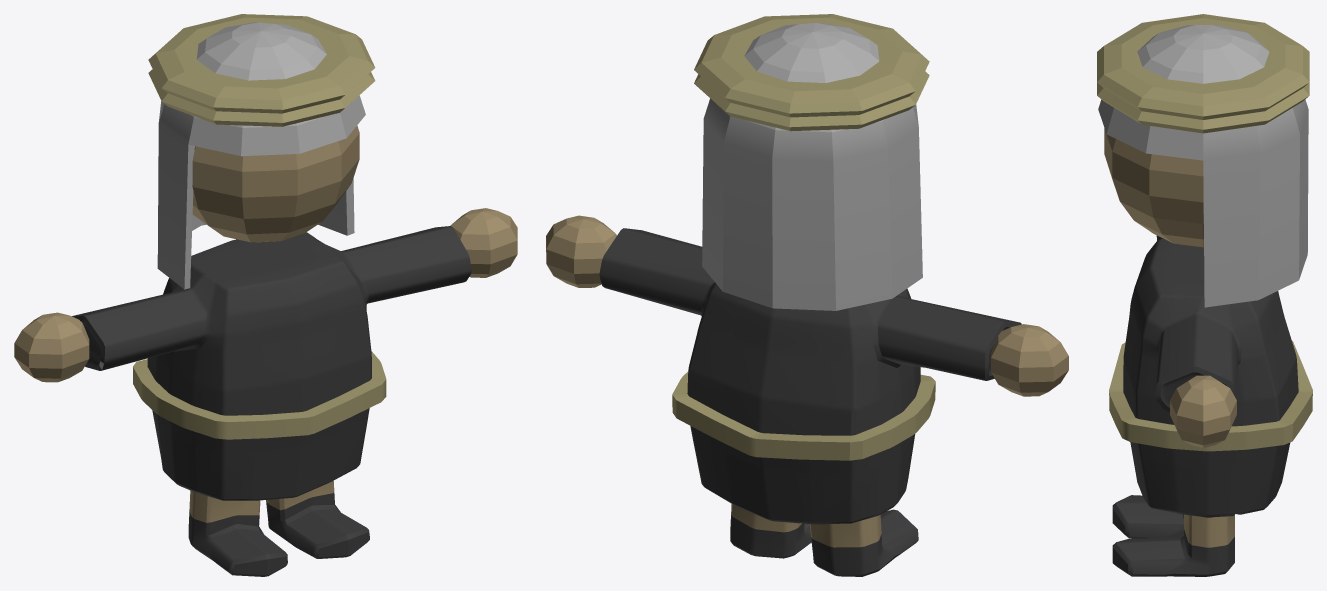
The model's file is Final boss.fbx.
The picture shows the model from 3 angles, left to right: view 1: azimuth 30°, elevation 25°; view 2: azimuth 150°, elevation 25°; view 3: azimuth 270°, elevation 25°; orthographic projection. The views are drawn at different scales.
Visible parts, largest first — view 1: polySurface9; view 2: polySurface9; view 3: polySurface9.
Boxes of the visible parts, x1,y1,x2,y2 form: polySurface9: (14, 14, 517, 576); polySurface9: (546, 14, 1068, 576); polySurface9: (1097, 14, 1312, 576).
Bounding box in the file's own units: 8.09 × 7.89 × 3.02.
